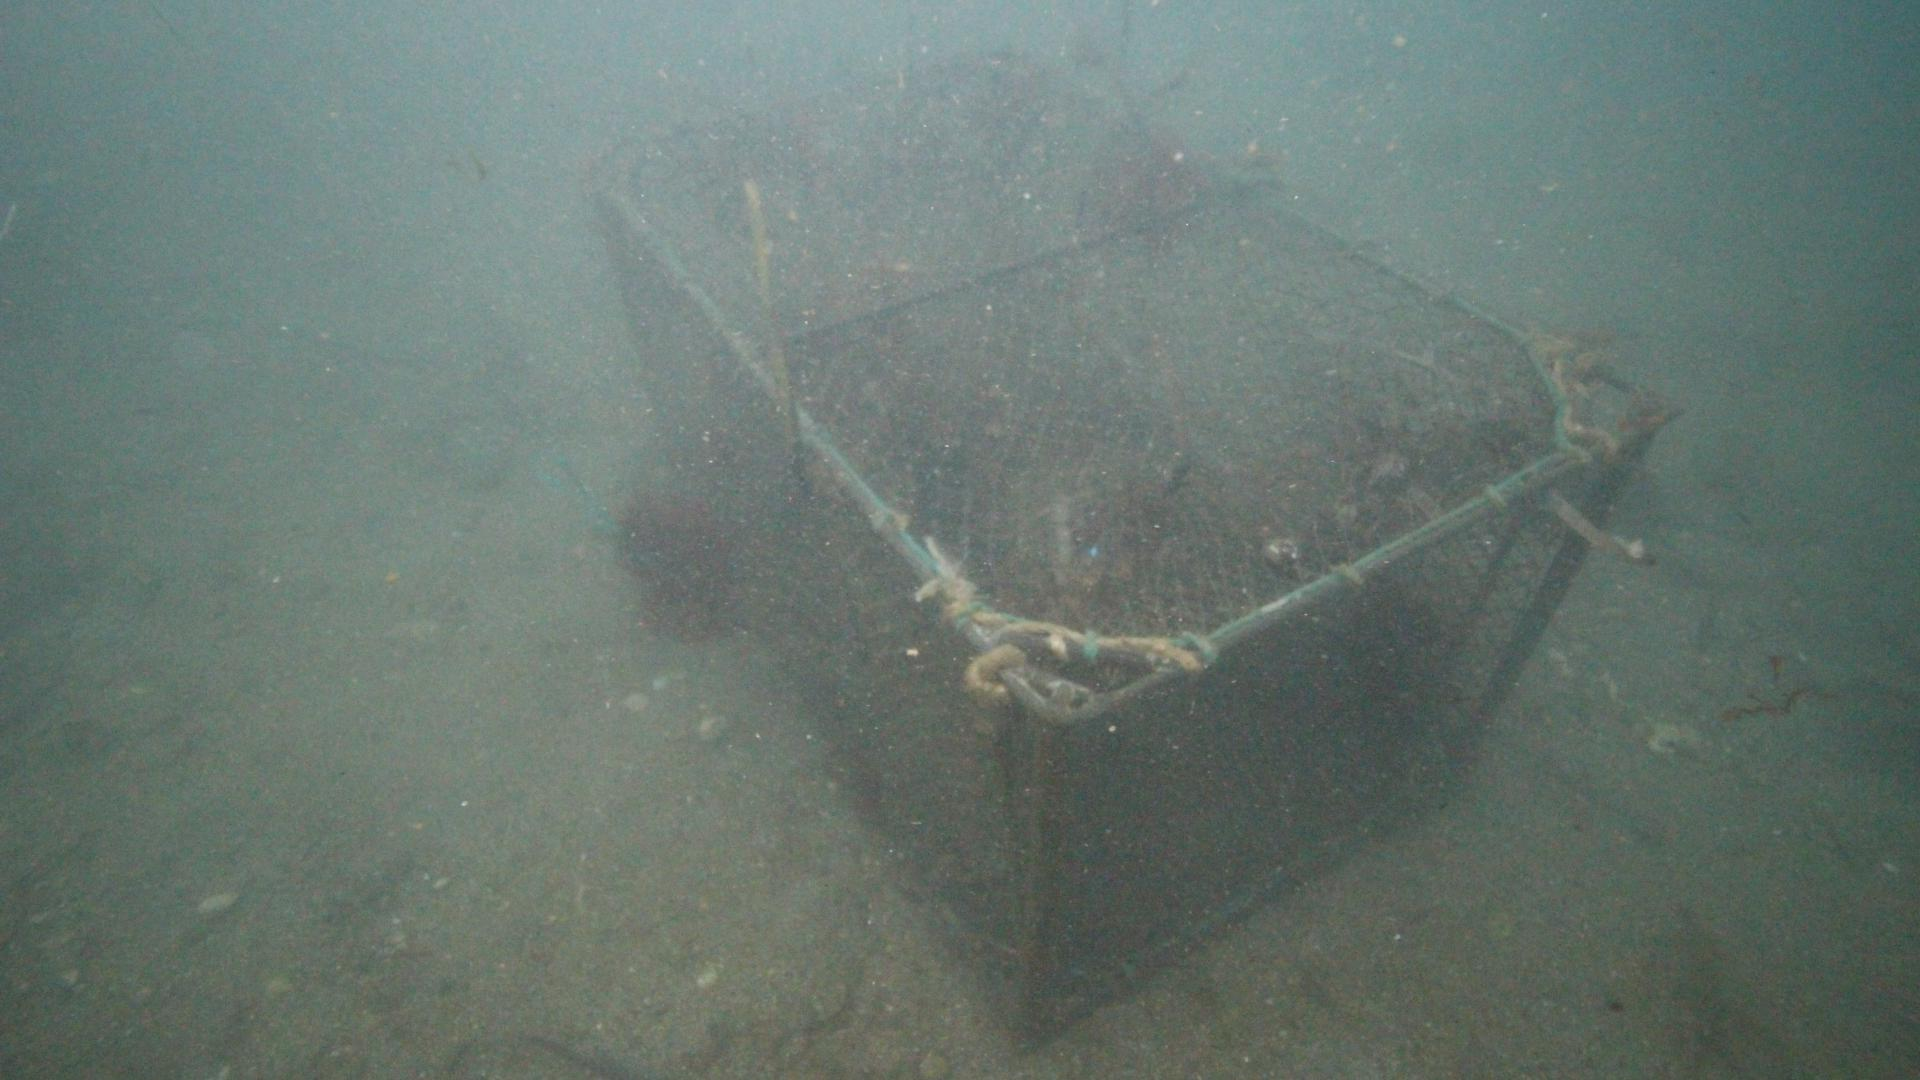rectangular fish trap: (585, 25, 1691, 1047)
